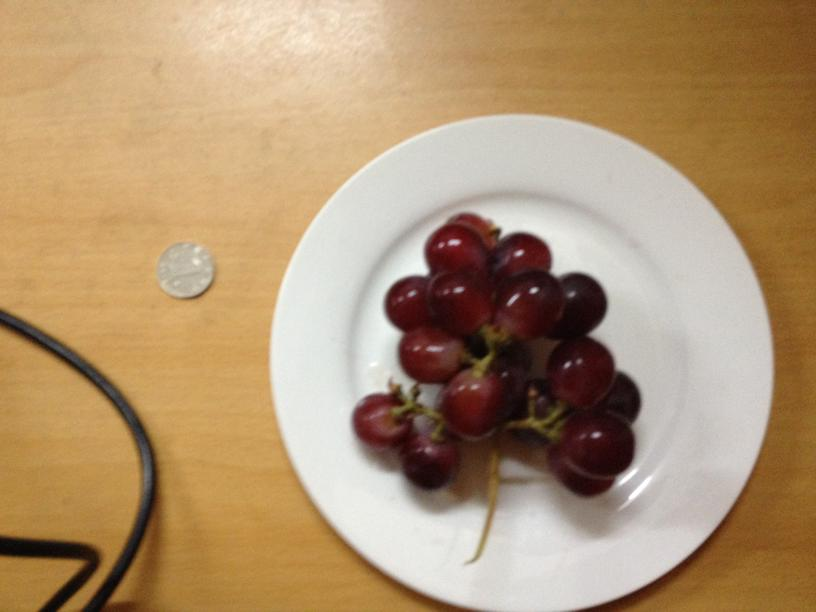coin: (158, 241, 213, 297)
grape: (351, 210, 640, 501)
